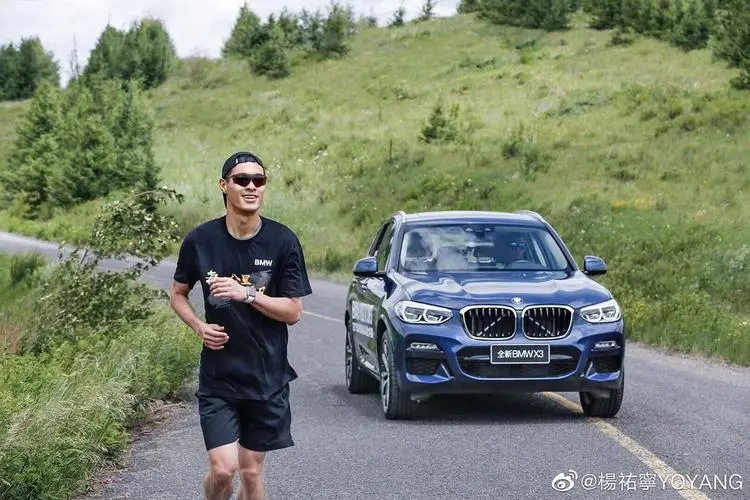car: (341, 208, 625, 417)
person: (168, 149, 306, 499)
